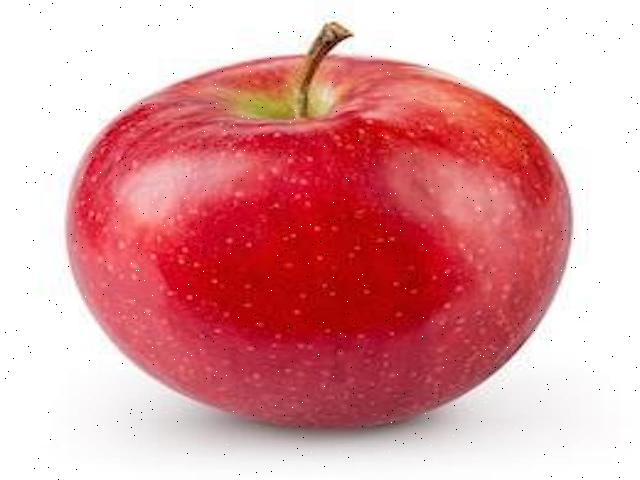apple: (60, 15, 578, 436)
